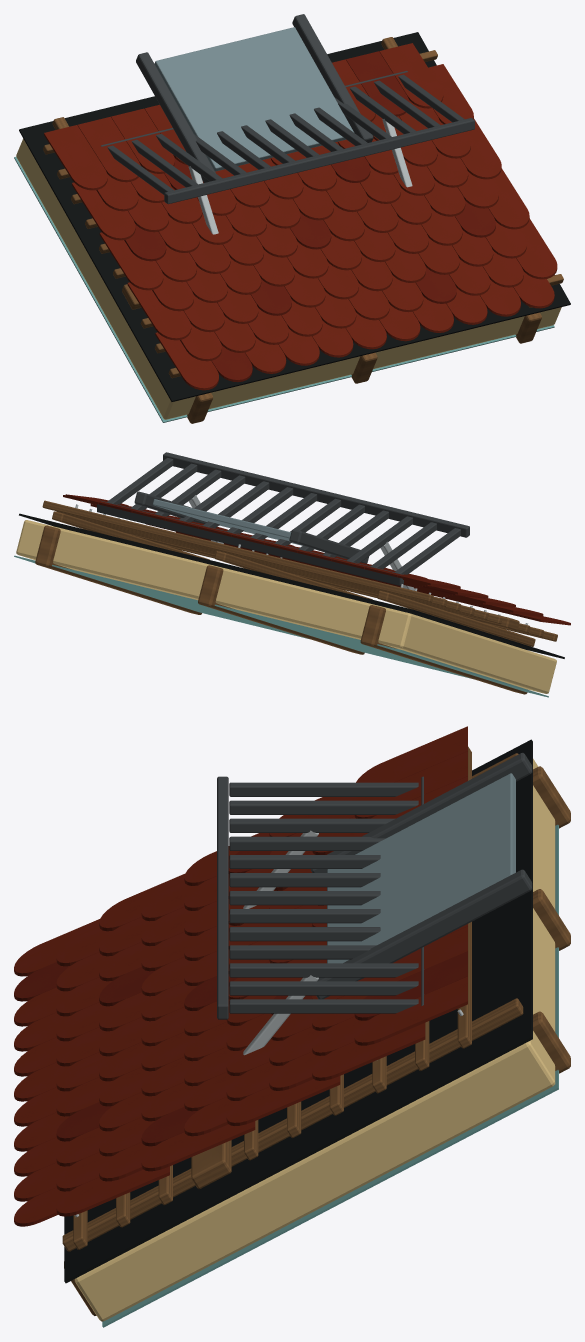
Rendered from modell.glb.
3 renders of one model, top to bottom at view 1: azimuth 30°, elevation 25°; view 2: azimuth 150°, elevation 25°; view 3: azimuth 270°, elevation 25°, orthographic. The views are drawn at different scales.
Parts seen in each view (by area): view 1: a03-deckziegel_deckung, a03-ausstieg_, a03-tritt_, a03-zusatzebene_zusatzebene, a03-daemmung_daemmung, a03-deckziegel_deckung.001, a03-ausstieg_.001, a03-luftdichtheit_luftdichtheit, a03-sparren_tragwerk, a03-lattung_lattung, a03-halter_; view 2: a03-daemmung_daemmung, a03-tritt_, a03-lattung_lattung, a03-deckziegel_deckung, a03-sparren_tragwerk, a03-luftdichtheit_luftdichtheit, a03-zusatzebene_zusatzebene, a03-ausstieg_.001, a03-ausstieg_, a03-befestigungsuntergrund_lattung, a03-deckziegel_deckung.001, a03-halter_; view 3: a03-deckziegel_deckung, a03-tritt_, a03-daemmung_daemmung, a03-zusatzebene_zusatzebene, a03-ausstieg_, a03-lattung_lattung, a03-deckziegel_deckung.001, a03-ausstieg_.001, a03-luftdichtheit_luftdichtheit, a03-sparren_tragwerk, a03-befestigungsuntergrund_lattung, a03-halter_.
Boxes of the visible parts, x1,y1,x2,y2 form: a03-deckziegel_deckung: [44, 43, 557, 390]; a03-ausstieg_: [154, 27, 354, 171]; a03-tritt_: [101, 70, 474, 204]; a03-zusatzebene_zusatzebene: [19, 32, 570, 401]; a03-daemmung_daemmung: [16, 138, 561, 419]; a03-deckziegel_deckung.001: [124, 51, 495, 382]; a03-ausstieg_.001: [136, 14, 373, 182]; a03-luftdichtheit_luftdichtheit: [14, 157, 554, 422]; a03-sparren_tragwerk: [187, 312, 541, 423]; a03-lattung_lattung: [43, 37, 563, 378]; a03-halter_: [188, 119, 412, 234]; a03-daemmung_daemmung: [16, 520, 556, 693]; a03-tritt_: [97, 452, 469, 585]; a03-lattung_lattung: [42, 500, 557, 646]; a03-deckziegel_deckung: [63, 494, 570, 625]; a03-sparren_tragwerk: [35, 525, 527, 694]; a03-luftdichtheit_luftdichtheit: [14, 555, 548, 697]; a03-zusatzebene_zusatzebene: [19, 513, 564, 658]; a03-ausstieg_.001: [134, 491, 369, 563]; a03-ausstieg_: [152, 499, 302, 545]; a03-befestigungsuntergrund_lattung: [128, 533, 519, 630]; a03-deckziegel_deckung.001: [99, 502, 507, 613]; a03-halter_: [188, 495, 414, 590]; a03-deckziegel_deckung: [14, 726, 467, 1226]; a03-tritt_: [217, 776, 424, 1019]; a03-daemmung_daemmung: [75, 758, 555, 1321]; a03-zusatzebene_zusatzebene: [64, 739, 532, 1283]; a03-ausstieg_: [327, 773, 515, 963]; a03-lattung_lattung: [62, 746, 523, 1251]; a03-deckziegel_deckung.001: [14, 851, 467, 1146]; a03-ausstieg_.001: [311, 752, 532, 999]; a03-luftdichtheit_luftdichtheit: [102, 824, 558, 1327]; a03-sparren_tragwerk: [64, 766, 570, 1315]; a03-befestigungsuntergrund_lattung: [191, 1140, 231, 1188]; a03-halter_: [243, 830, 318, 1055].
Size of the model in its own units: 2.14 by 1.26 by 1.69.
9 materials, 3 textured.
